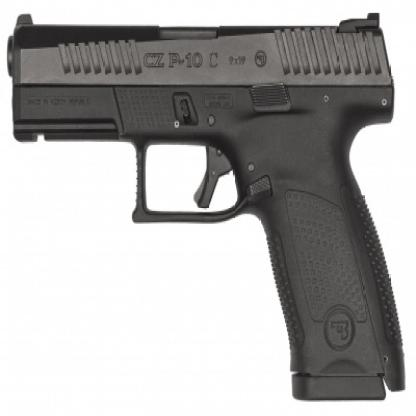Guns: (3, 7, 407, 402)
